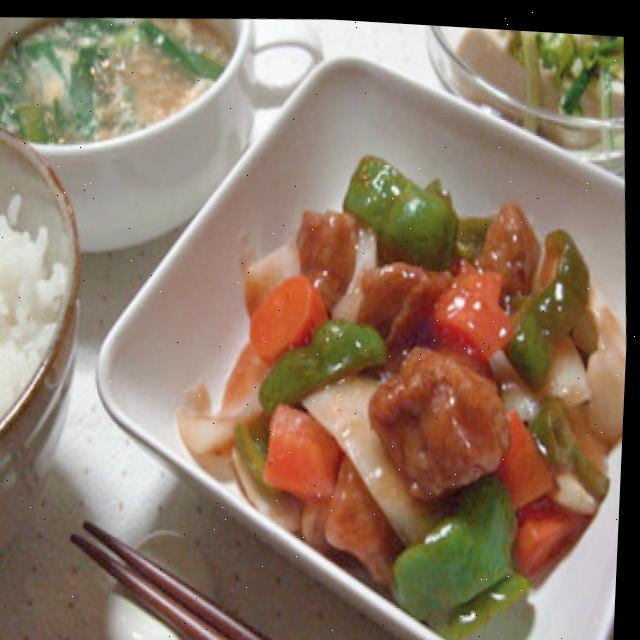汤锅炖物: (0, 3, 262, 165)
猪肉菜式: (155, 120, 636, 640)
米饭主食: (0, 113, 94, 461)
豆腐料理: (423, 20, 629, 142)
